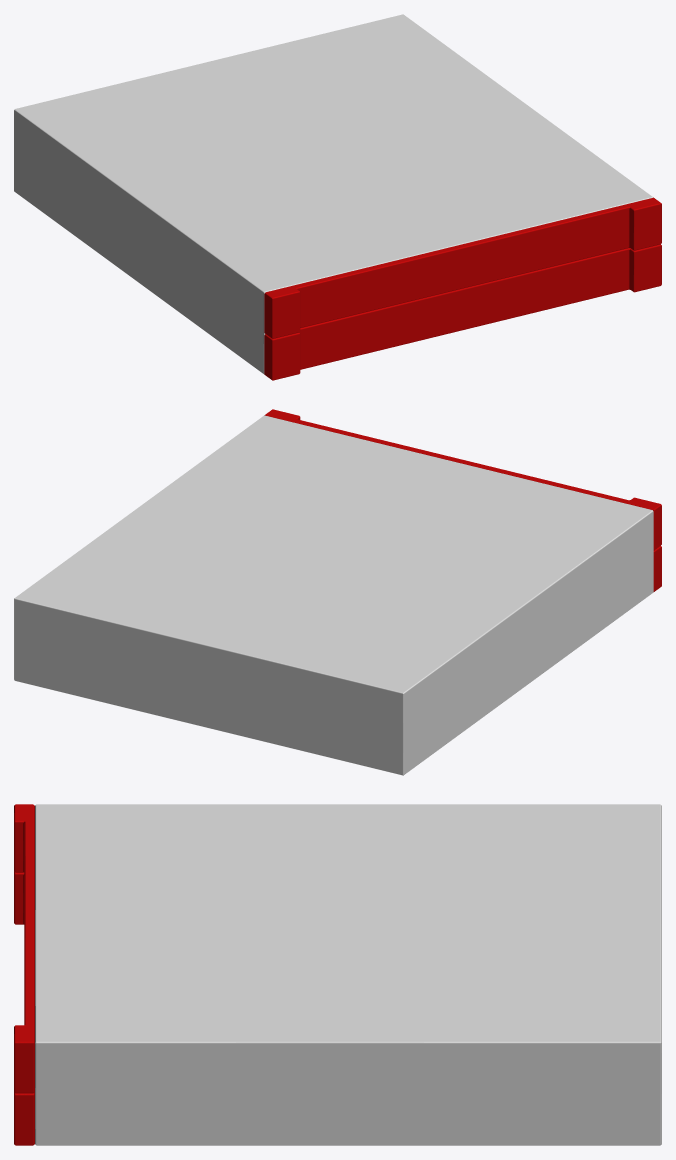
The model's file is ServerBay01.fbx.
3 views of the same model, one above another, from view 1: azimuth 30°, elevation 25°; view 2: azimuth 150°, elevation 25°; view 3: azimuth 270°, elevation 25° (orthographic). The views are drawn at different scales.
Visible parts, largest first — view 1: ServerBay01; view 2: ServerBay01; view 3: ServerBay01.
Boxes of the visible parts, box(x1,y1,x2,y2) form: ServerBay01: box(14, 14, 661, 380); ServerBay01: box(14, 409, 661, 775); ServerBay01: box(14, 804, 661, 1145).
Size of the model in its own units: 67.5 by 13.75 by 77.5.
